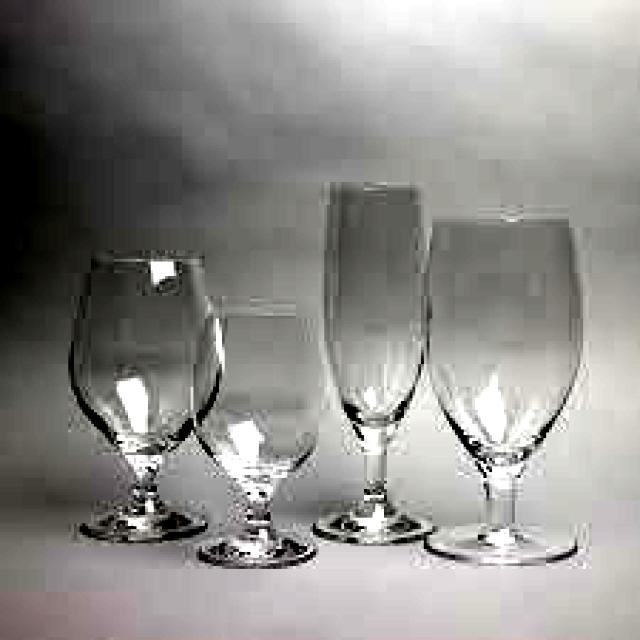Glass: (419, 213, 587, 566), (63, 249, 220, 546), (321, 183, 432, 547), (198, 306, 324, 572)
